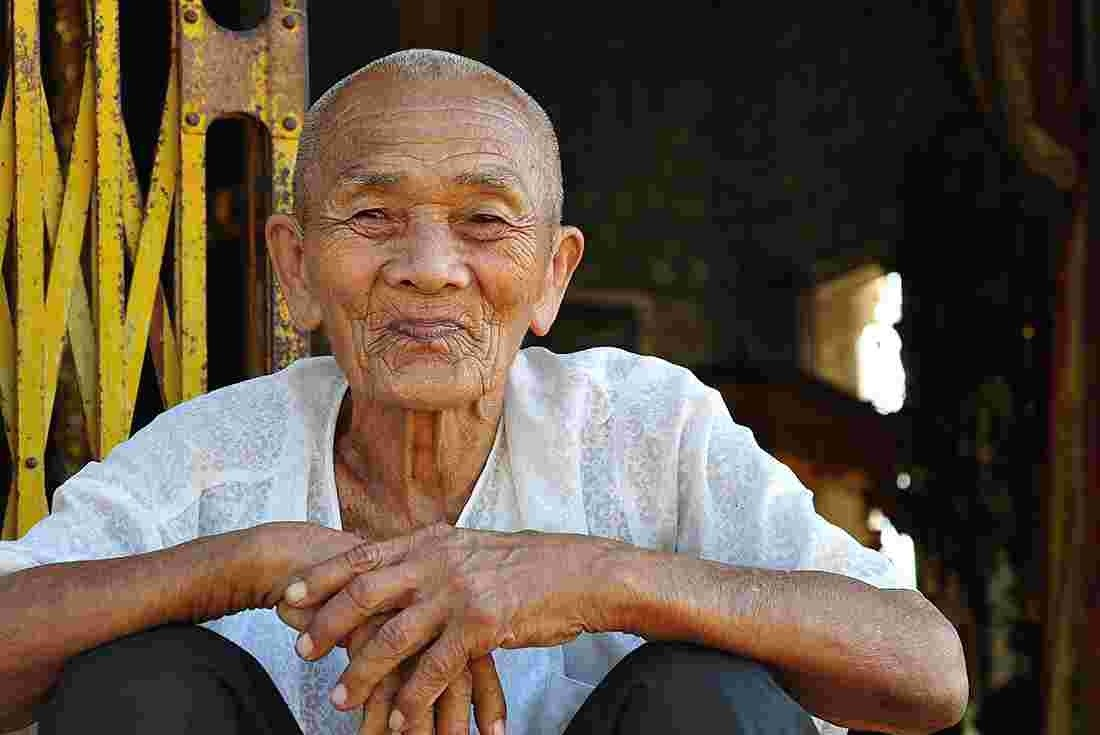face_no_mask: (266, 49, 582, 409)
